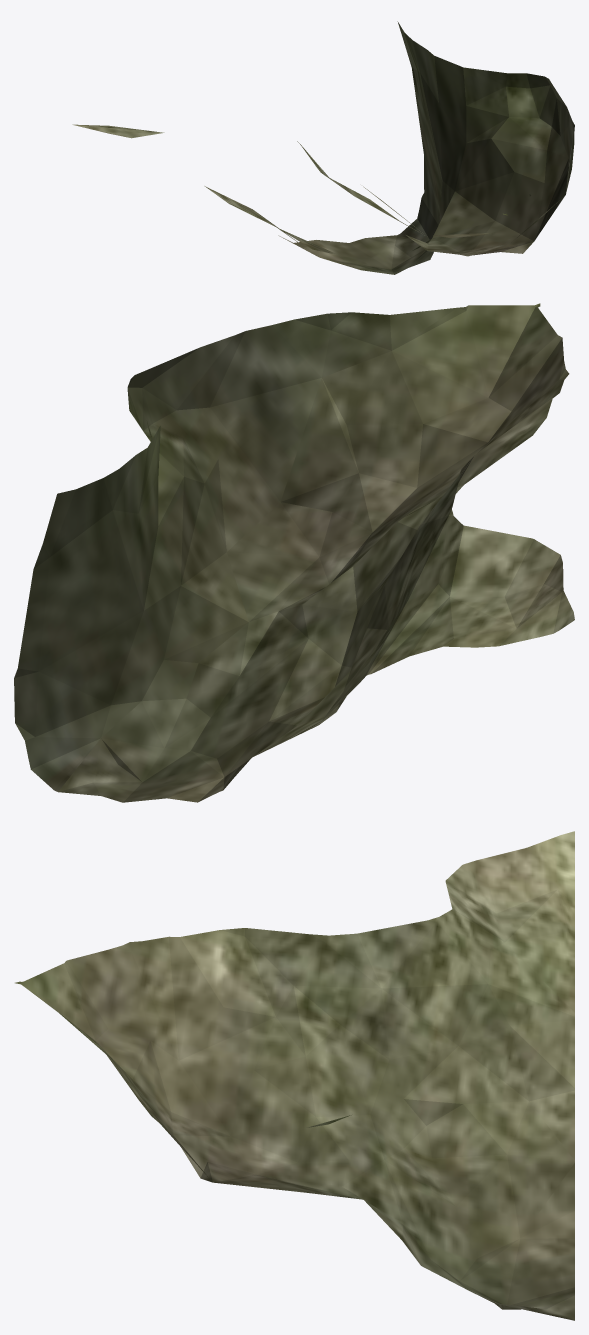
3 views of the same model, one above another, from view 1: azimuth 30°, elevation 25°; view 2: azimuth 150°, elevation 25°; view 3: azimuth 270°, elevation 25° (orthographic). The views are drawn at different scales.
Size of the model in its own units: 1.87 by 0.9335 by 1.75.
1 material, 1 textured.
